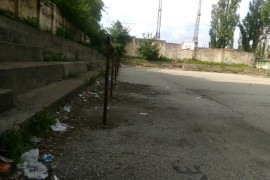trash: (2, 143, 61, 179), (44, 99, 73, 136)
